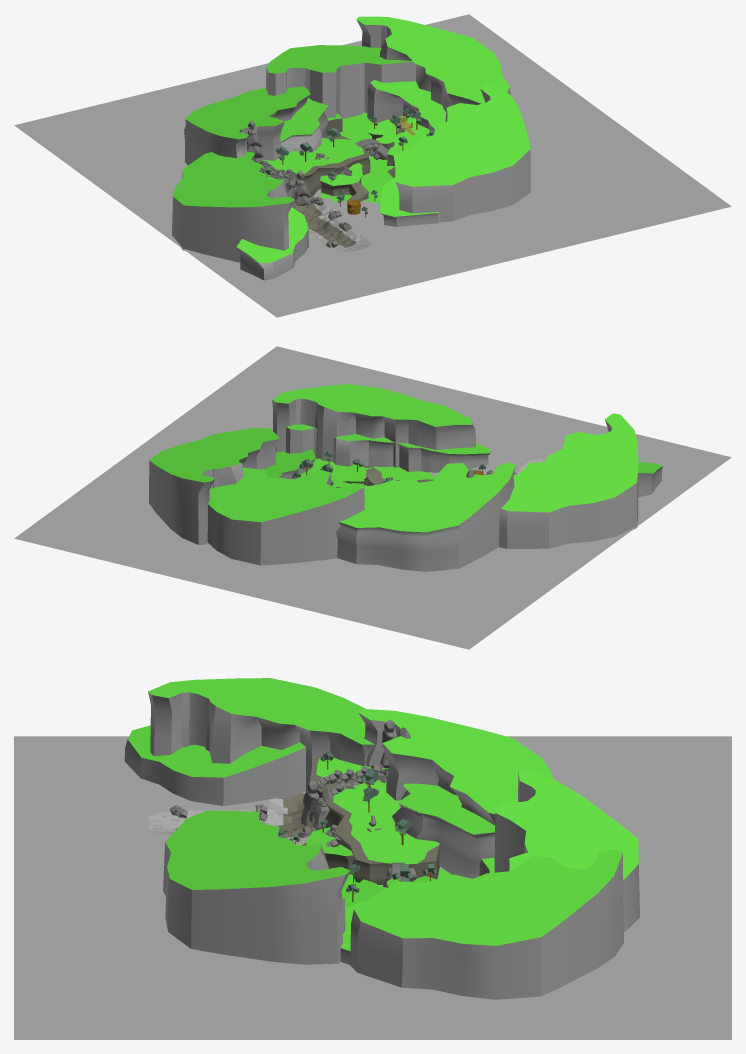
File: Level.fbx
3 renders of one model, top to bottom at view 1: azimuth 30°, elevation 25°; view 2: azimuth 150°, elevation 25°; view 3: azimuth 270°, elevation 25°, orthographic. The views are drawn at different scales.
Parts seen in each view (by area): view 1: Level_G1_Combined; view 2: Level_G1_Combined; view 3: Level_G1_Combined.
Boxes of the visible parts, x1,y1,x2,y2 form: Level_G1_Combined: (14, 14, 731, 317); Level_G1_Combined: (14, 346, 731, 649); Level_G1_Combined: (14, 678, 731, 1039).
Bounding box in the file's own units: 24233 × 4643 × 24233.
